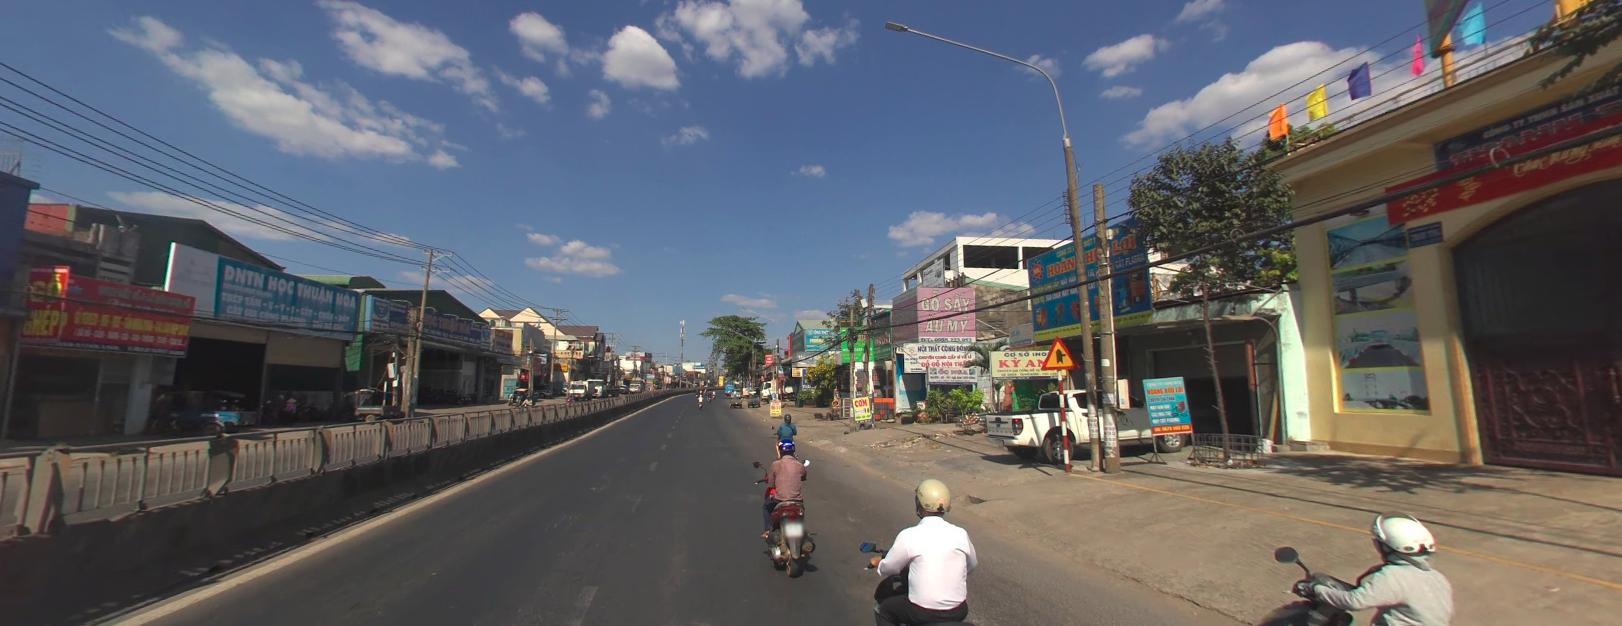Nguy hiem: (1040, 334, 1079, 368), (1040, 335, 1079, 368)
